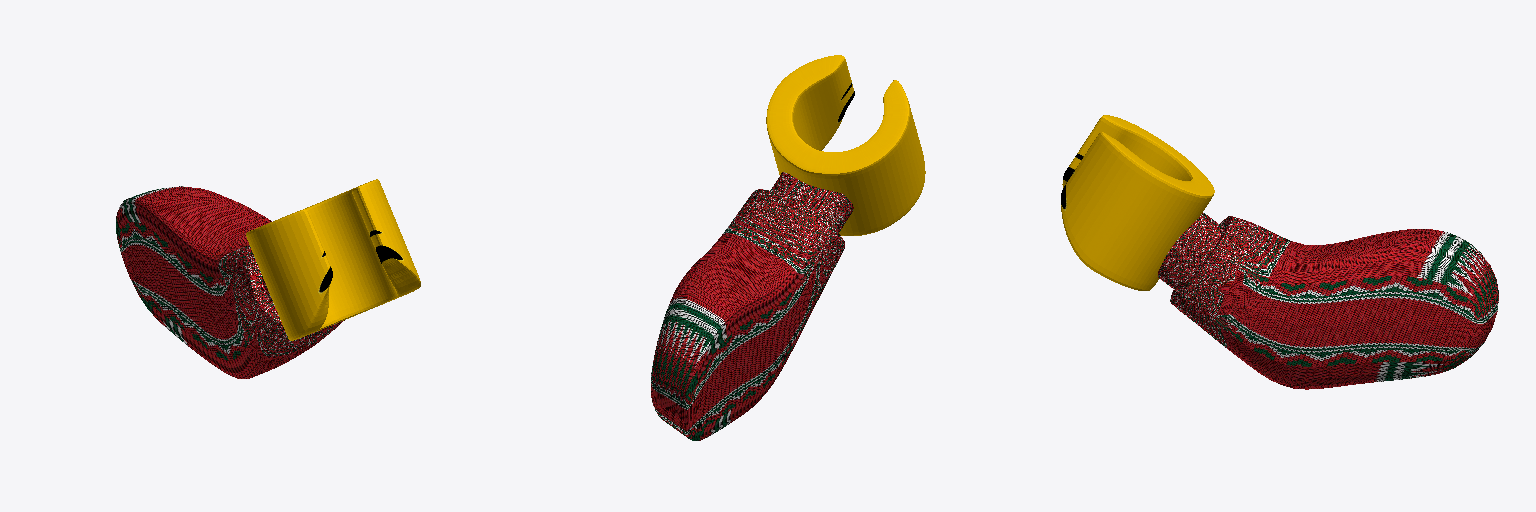
The picture shows the model from 3 angles: view 1: azimuth 30°, elevation 25°; view 2: azimuth 150°, elevation 25°; view 3: azimuth 270°, elevation 25°; orthographic projection.
Visible parts, largest first — view 1: BrazoIzquierdo; view 2: BrazoIzquierdo; view 3: BrazoIzquierdo.
Boxes of the visible parts, x1=… form: BrazoIzquierdo: x1=116, y1=179, x2=420, y2=378; BrazoIzquierdo: x1=651, y1=55, x2=925, y2=440; BrazoIzquierdo: x1=1061, y1=115, x2=1498, y2=389.
Bounding box in the file's own units: 0.9074 × 1.65 × 2.49.
Materials: 2 (2 with a texture image).